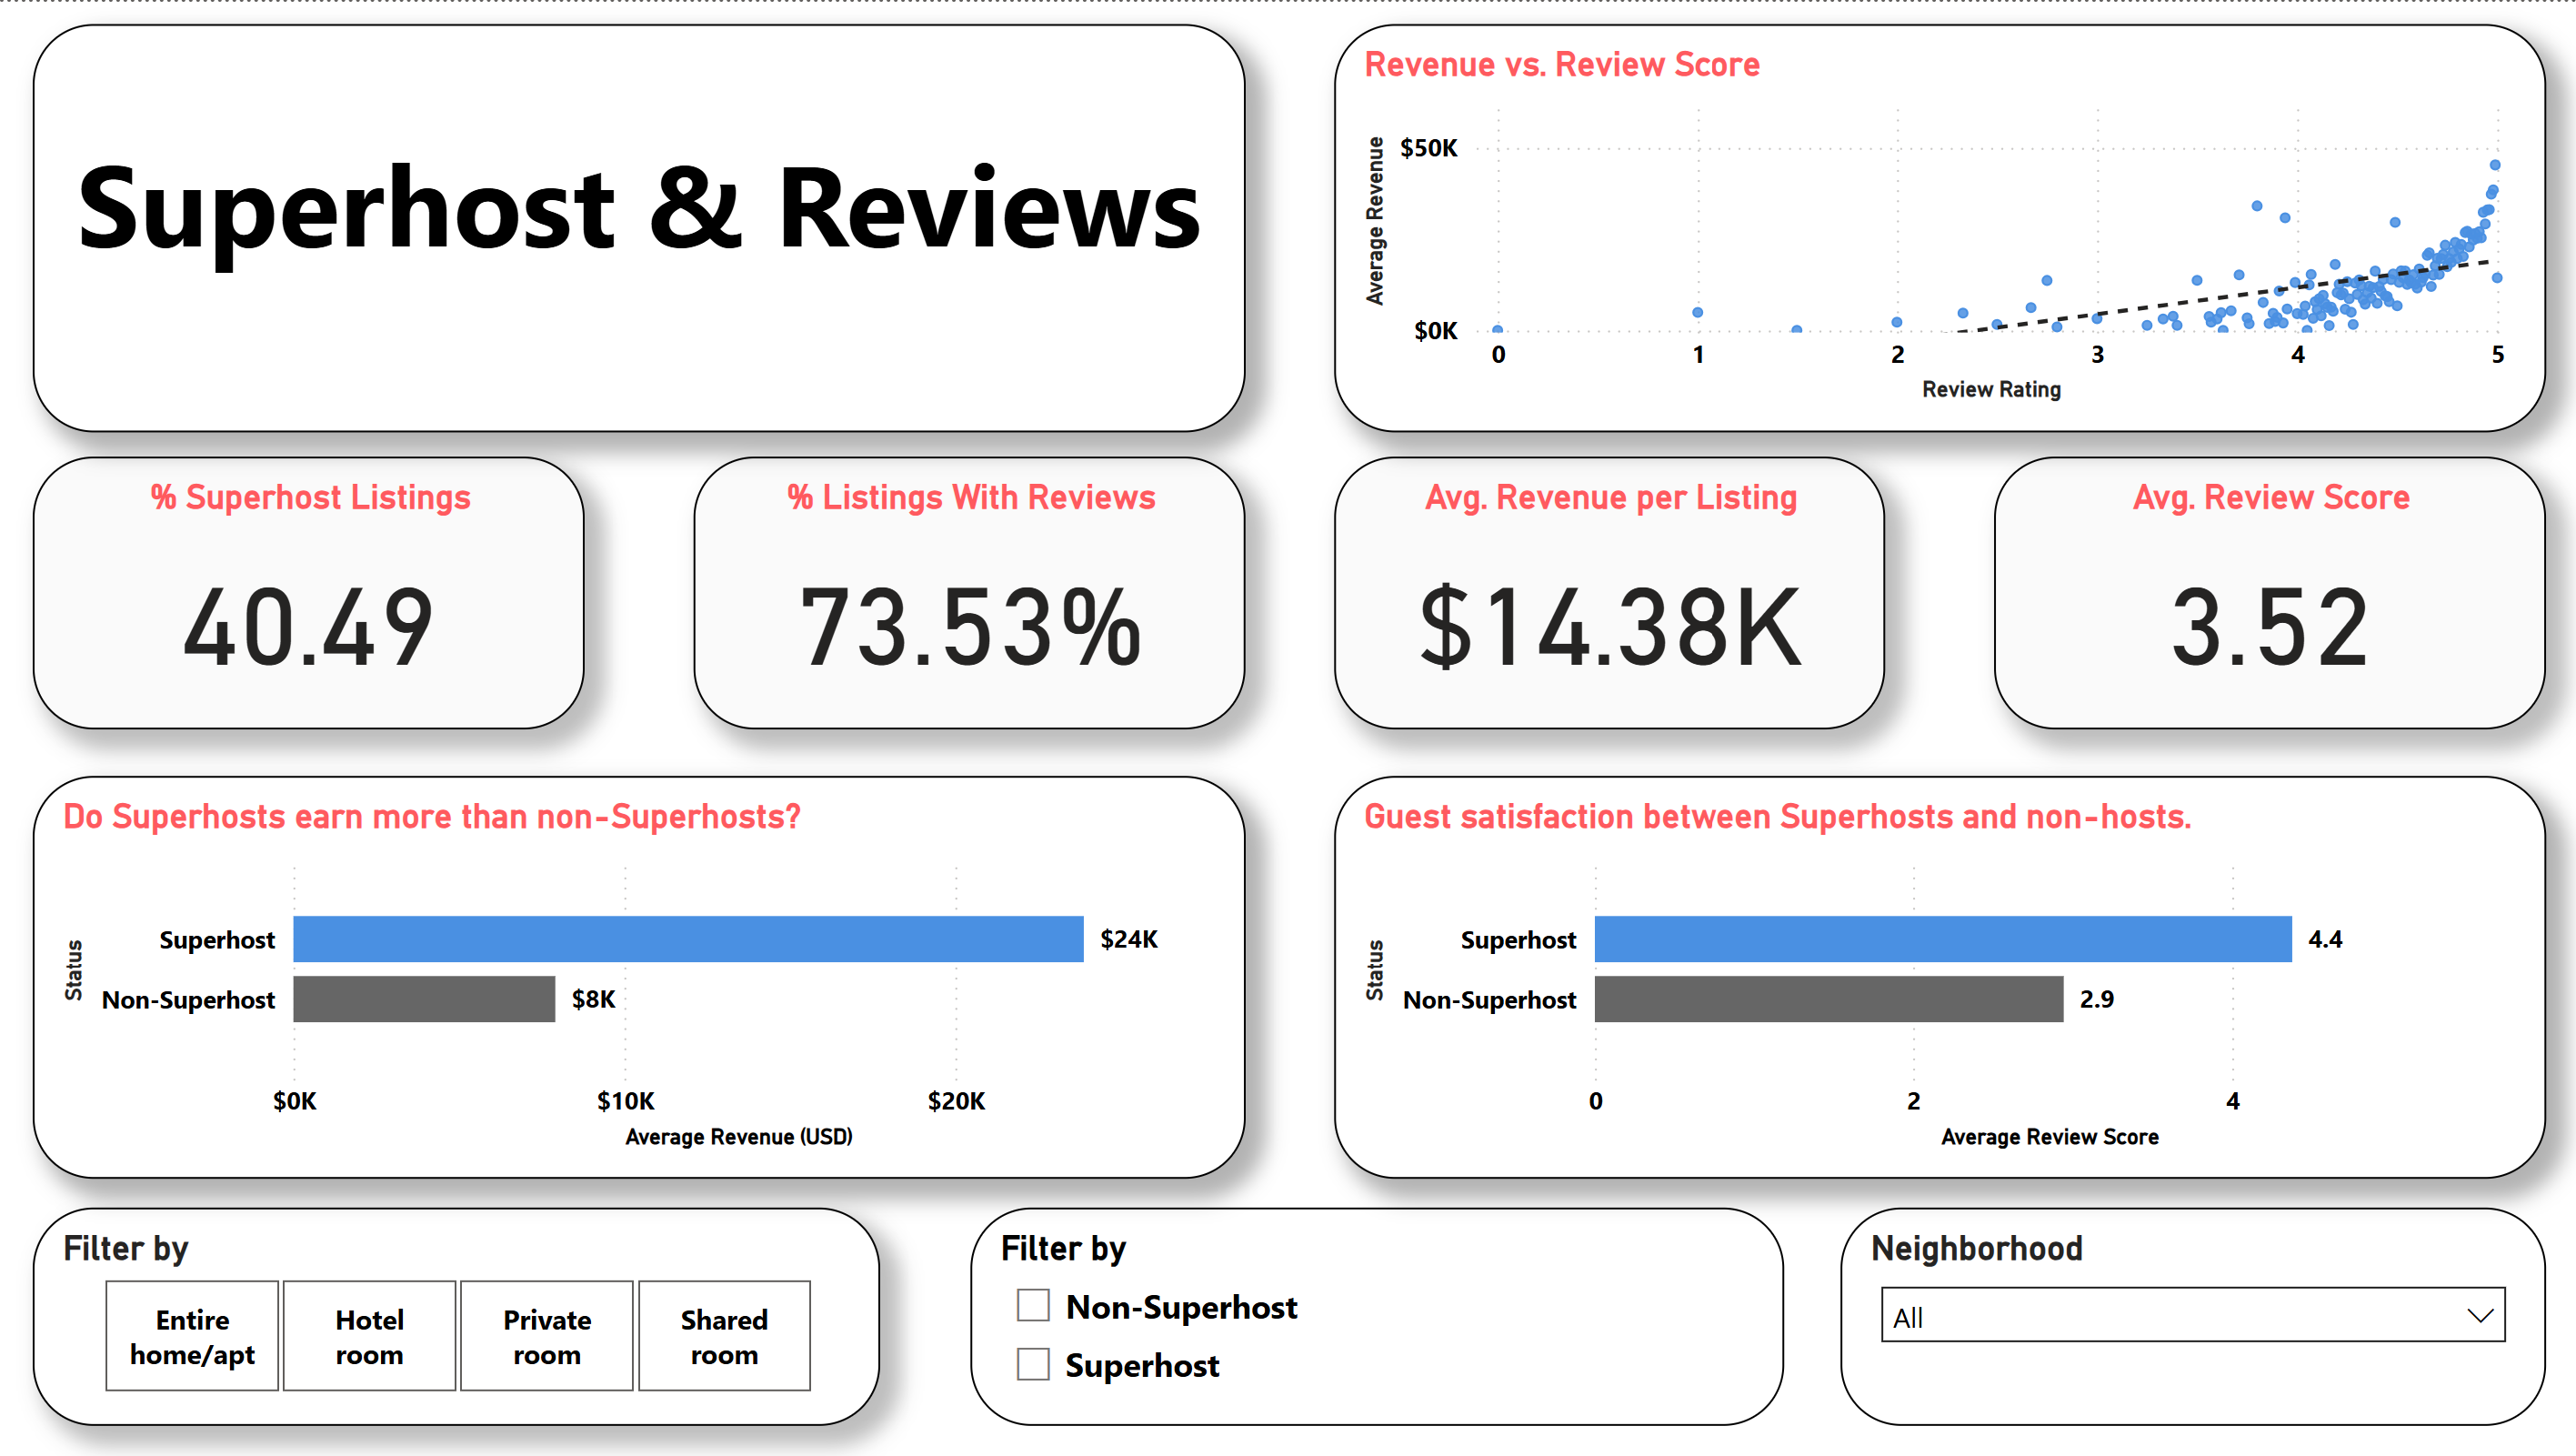

The page's visual inventory and layout, read from the dashboard file:
{"tool":"powerbi","page":{"name":"Superhost & Reviews","canvas":[1280,720],"ordinal":2},"visuals":[{"type":"card","title":"% Superhost Listings","fields":{"Values":["airbnb_la_cleaned.% Superhost Listings"]},"box":[18,225,273,135],"z":0},{"type":"card","title":"% Listings With Reviews","fields":{"Values":["airbnb_la_cleaned.Pct_HasReviews"]},"box":[345,225,273,135],"z":1000},{"type":"card","title":"Avg. Revenue per Listing","fields":{"Values":["airbnb_la_cleaned.Avg_ReviewScore"]},"box":[662,225,273,135],"z":2000},{"type":"card","title":"Avg. Review Score","fields":{"Values":["airbnb_la_cleaned.Avg_ReviewScore"]},"box":[989,225,273,135],"z":3000},{"type":"slicer","title":"Filter by","fields":{"Values":["airbnb_la_cleaned.room_type"]},"box":[18,597,419,108],"z":4000},{"type":"slicer","title":"Neighborhood","fields":{"Values":["airbnb_la_cleaned.neighbourhood_cleansed"]},"box":[913,597,349,108],"z":5000},{"type":"slicer","title":"Filter by","fields":{"Values":["airbnb_la_cleaned.Superhost Label"]},"box":[482,597,403,108],"z":6000},{"type":"barChart","title":"Do Superhosts earn more than non-Superhosts?","fields":{"Y":["Avg(airbnb_la_cleaned.Estimated Revenue (USD))"],"Category":["airbnb_la_cleaned.Superhost Label"]},"box":[18,383,600,200],"z":7000},{"type":"barChart","title":" Guest satisfaction between Superhosts and non-hosts.","fields":{"Category":["airbnb_la_cleaned.Superhost Label"],"Y":["Avg(airbnb_la_cleaned.review_scores_rating)"]},"box":[662,383,600,200],"z":8000},{"type":"scatterChart","title":"Revenue vs. Review Score","fields":{"X":["airbnb_la_cleaned.review_scores_rating"],"Y":["Avg(airbnb_la_cleaned.Estimated Revenue (USD))"]},"box":[662,11,600,202],"z":9000},{"type":"textbox","box":[18,11,600,202],"z":10000}]}

Visuals, with their boxes in screenshot pixels (x1, y1, x2, y2), scaled from the page's 1280x720 canvas onto the 2576x1456 screenshot:
"% Superhost Listings" card: box(36, 455, 586, 728)
"% Listings With Reviews" card: box(695, 455, 1244, 728)
"Avg. Revenue per Listing" card: box(1332, 455, 1881, 728)
"Avg. Review Score" card: box(1990, 455, 2540, 728)
"Filter by" slicer: box(36, 1207, 879, 1426)
"Neighborhood" slicer: box(1838, 1207, 2540, 1426)
"Filter by" slicer: box(970, 1207, 1781, 1426)
"Do Superhosts earn more than non-Superhosts?" barChart: box(36, 775, 1244, 1179)
" Guest satisfaction between Superhosts and non-hosts." barChart: box(1332, 775, 2540, 1179)
"Revenue vs. Review Score" scatterChart: box(1332, 22, 2540, 431)
textbox: box(36, 22, 1244, 431)
